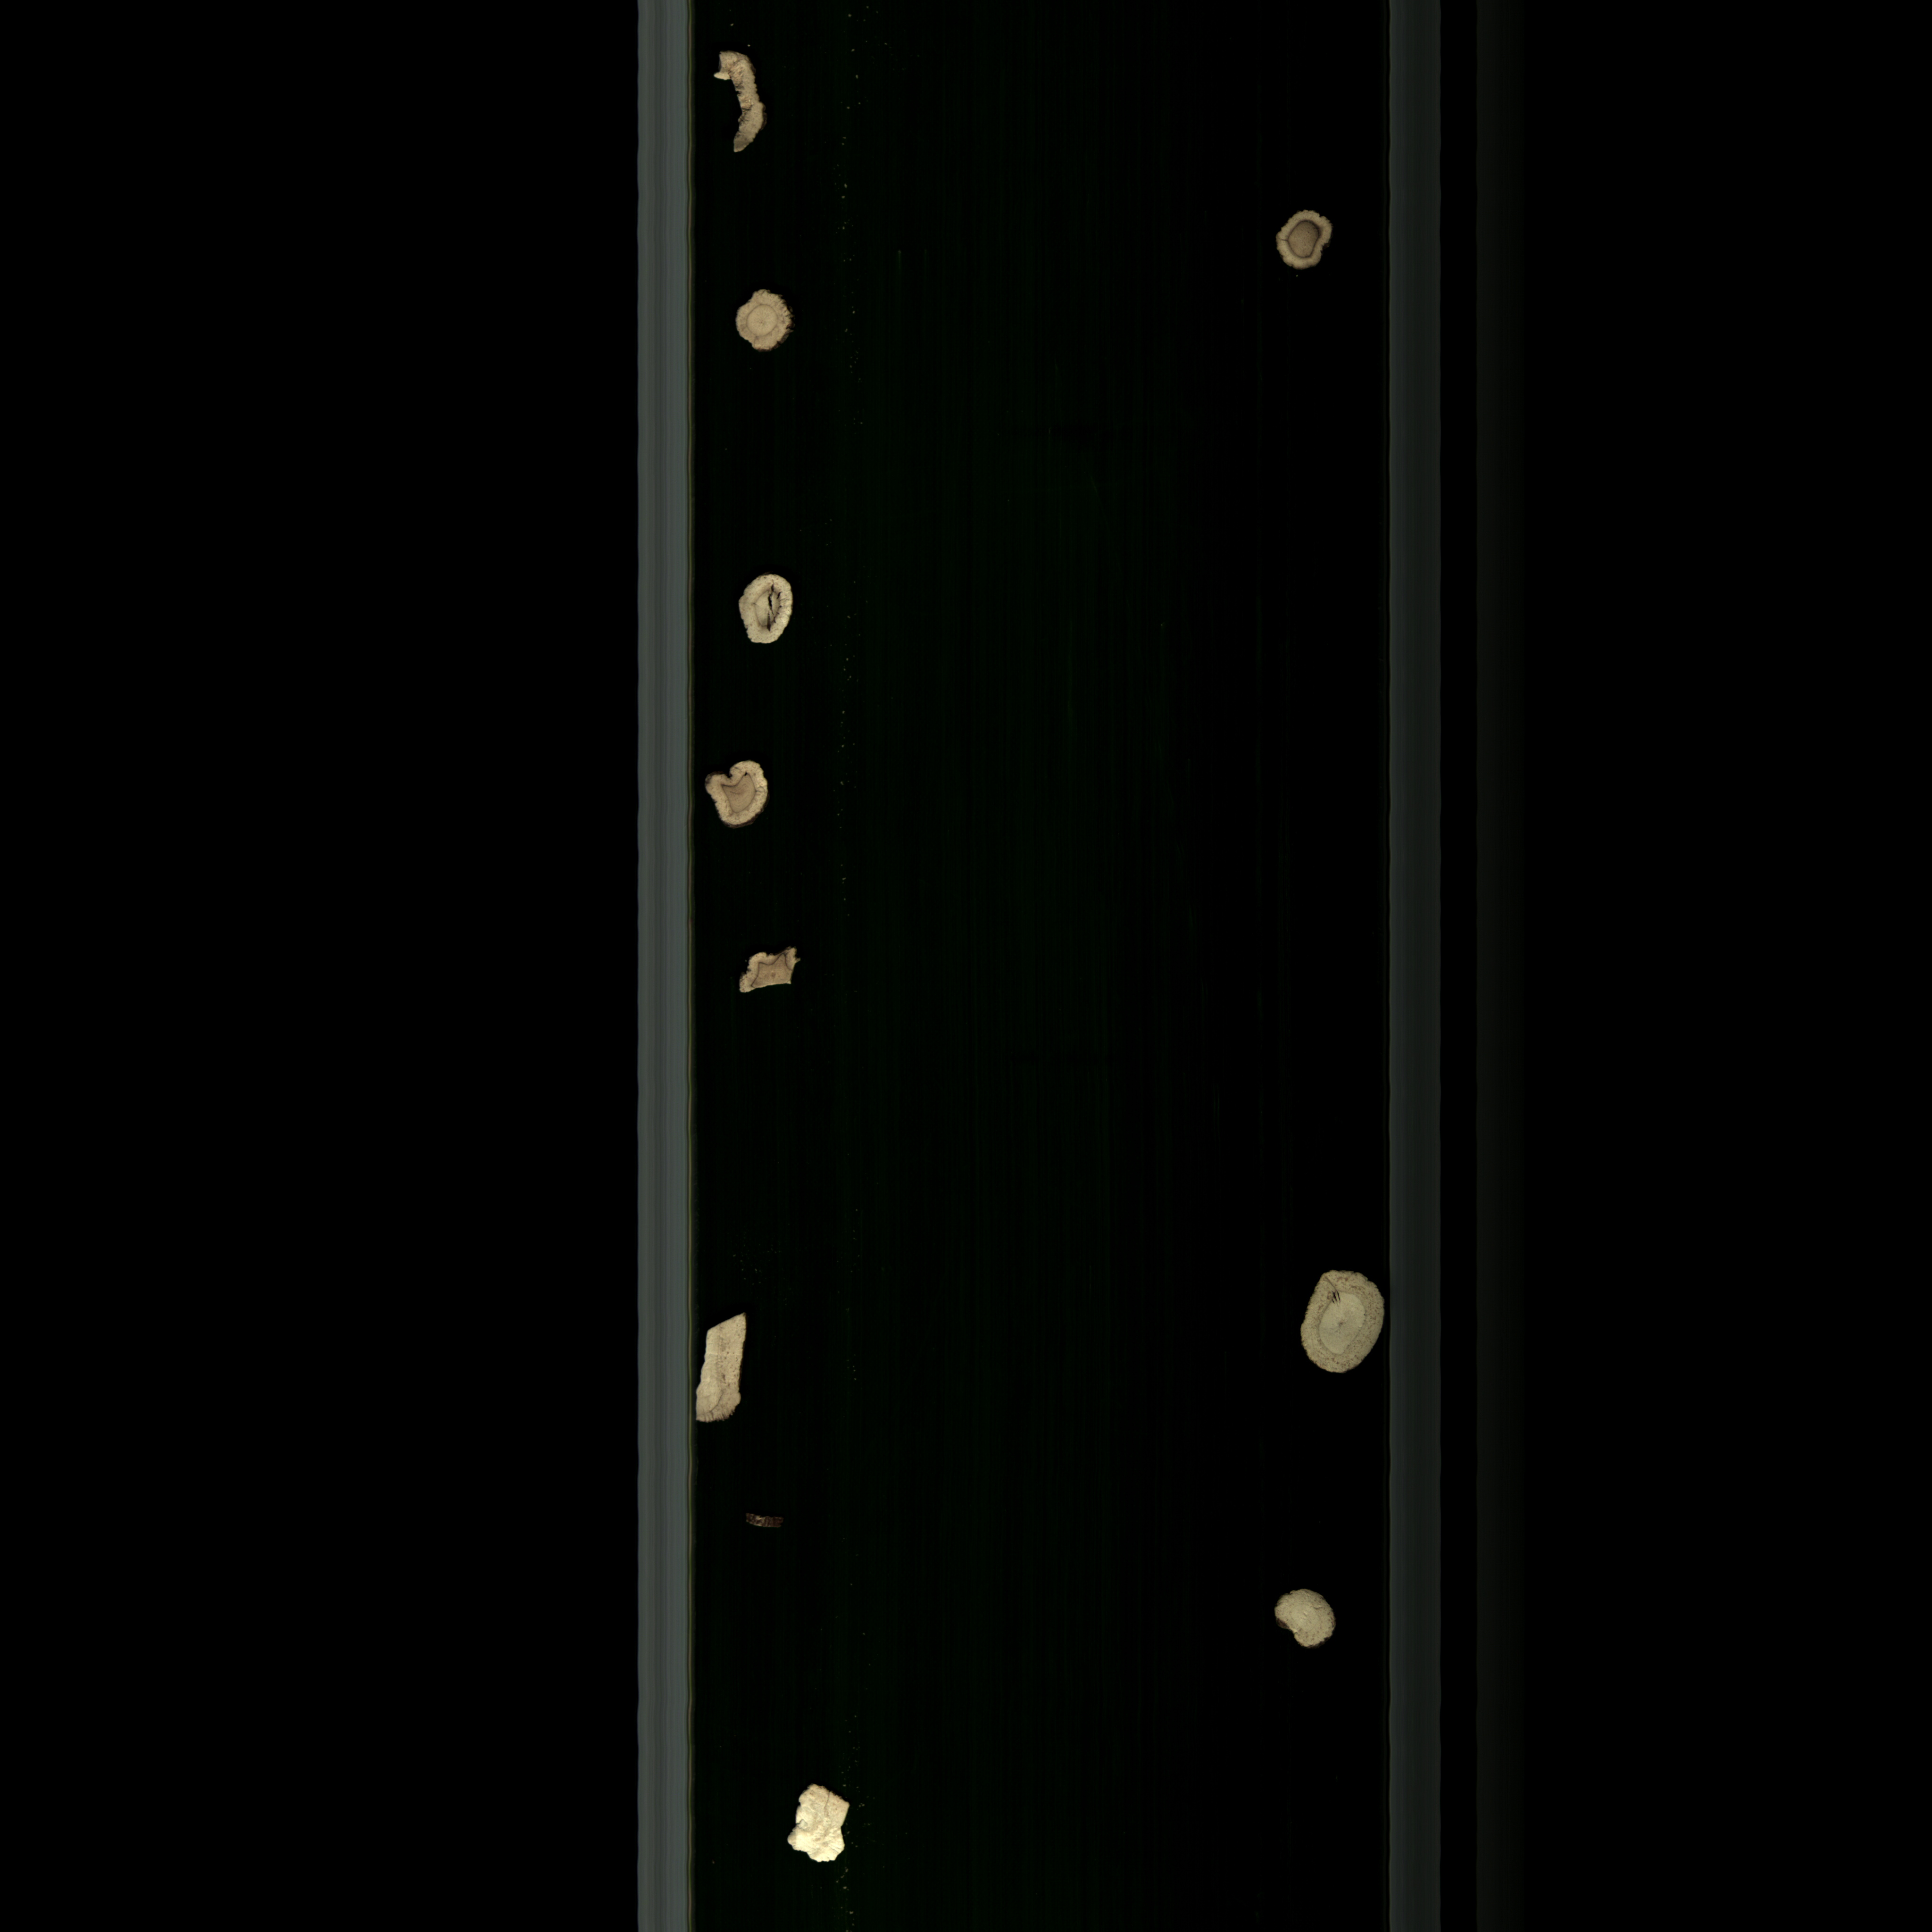bark: (734, 1502, 801, 1548)
debris: (777, 1775, 860, 1874)
distortion: (701, 42, 778, 166), (699, 754, 778, 840), (695, 1313, 752, 1433), (729, 281, 803, 370), (1267, 1580, 1348, 1660)
hole: (1295, 1258, 1391, 1382)
moldy: (1263, 200, 1338, 283), (729, 936, 816, 1007), (734, 570, 803, 655)
